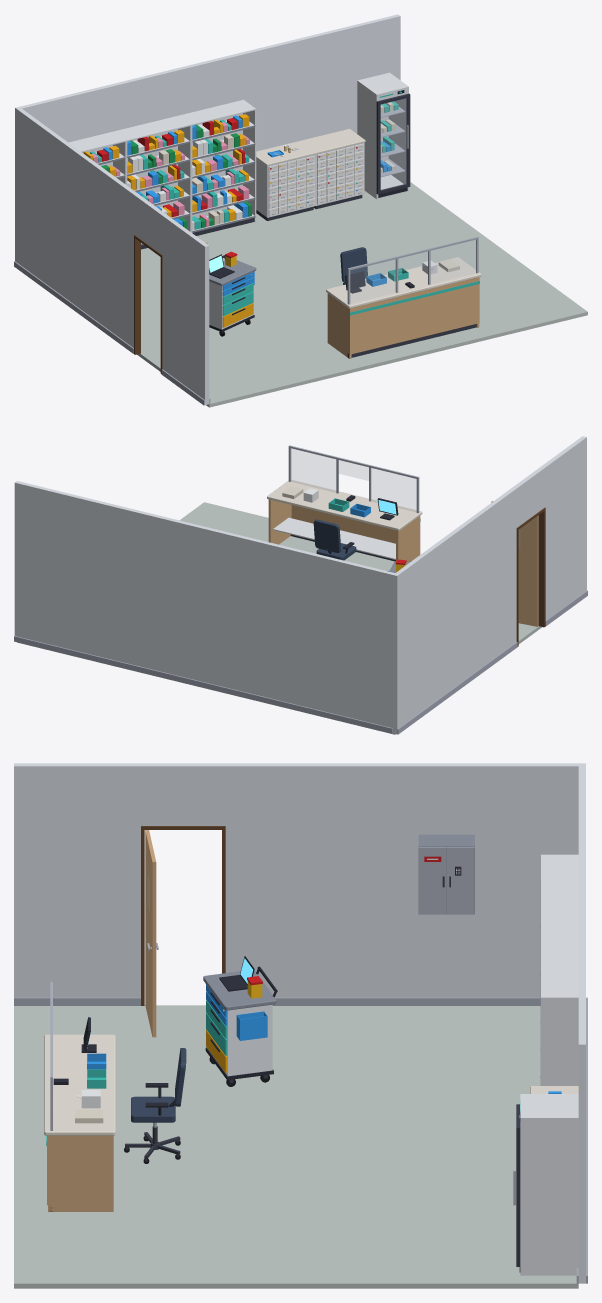
File: hos-023.glb
3 renders of one model, top to bottom at view 1: azimuth 30°, elevation 25°; view 2: azimuth 150°, elevation 25°; view 3: azimuth 270°, elevation 25°, orthographic. The views are drawn at different scales.
Visible parts, largest first — view 1: wall, hospital_floor, bed_frame, beech, white, glass_clear, laminate, accent_teal, dark_steel, accent_amber, locker_grey, plastic_blue (+9 smaller); view 2: wall, beech, skirting, hospital_floor, glass_clear, laminate, bed_frame, walnut, chair_fabric, steel; view 3: hospital_floor, wall, bed_frame, beech, laminate, steel, skirting, locker_grey, plastic_dark, walnut, plastic_blue, dark_steel (+2 smaller).
Boxes of the visible parts, x1,y1,x2,y2 form: wall: (15,14,400,405); hospital_floor: (137,182,587,407); bed_frame: (68,72,408,329); beech: (205,242,479,358); white: (127,124,437,274); glass_clear: (351,99,475,302); laminate: (256,129,481,308); accent_teal: (90,93,479,316); dark_steel: (141,93,476,358); accent_amber: (83,114,357,327); locker_grey: (97,125,256,285); plastic_blue: (103,115,391,296); wall: (14,436,586,734); beech: (268,499,538,626); skirting: (14,590,587,734); hospital_floor: (17,502,542,734); glass_clear: (291,449,519,547); laminate: (267,479,422,530); bed_frame: (273,517,395,559); walnut: (516,507,545,646); chair_fabric: (313,519,356,560); steel: (288,445,419,513); hospital_floor: (14,1005,578,1288); wall: (14,763,585,1283); bed_frame: (207,854,578,1275); beech: (47,830,156,1211); laminate: (44,1034,578,1135); steel: (50,847,515,1205); skirting: (14,997,587,1283); locker_grey: (203,834,540,1085); plastic_dark: (53,866,520,1272); walnut: (141,826,225,1005); plastic_blue: (87,984,561,1093); dark_steel: (49,876,520,1266).
Bounding box in the file's own units: 7.1 × 2.86 × 6.1.
